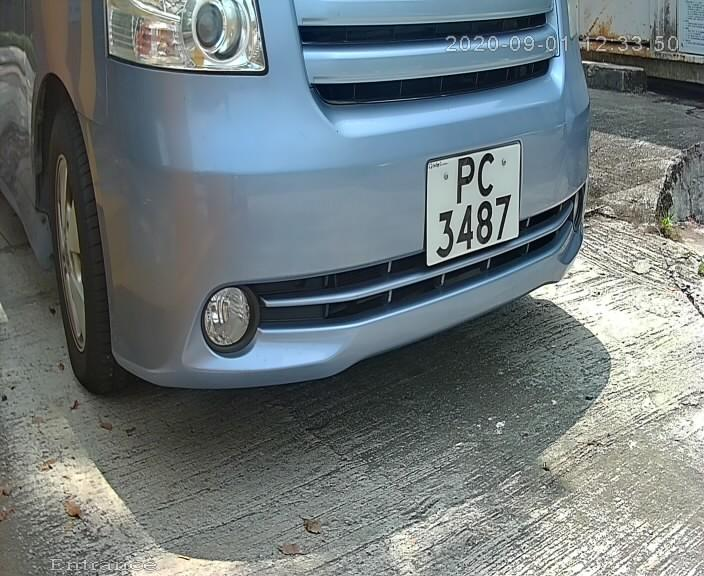License Plate: (415, 132, 529, 273)
